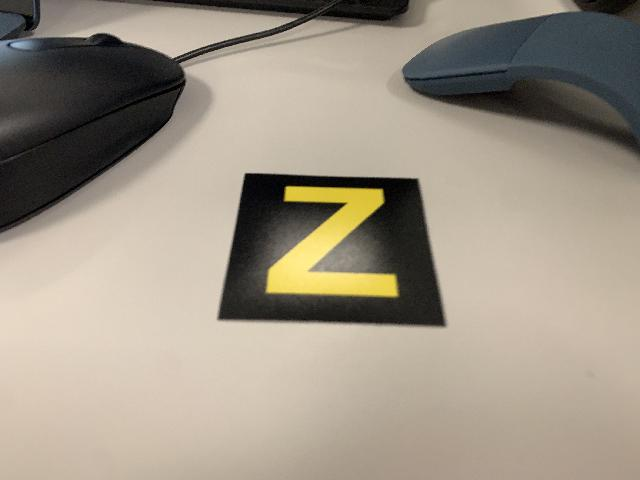alphabet_z: (214, 170, 449, 329)
